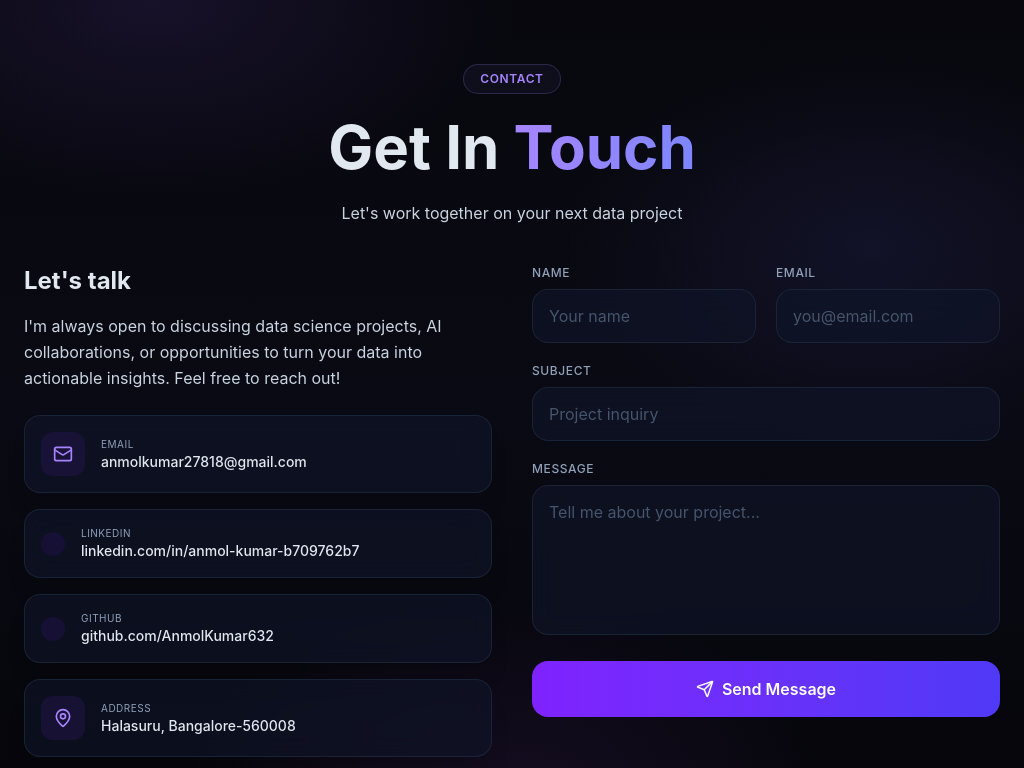
Test: Contact › Form Submission - Valid Data › shows success message after successful submission
This screenshot has width=1024, height=768.
In the field with placeholder "Your name": (644, 316) x1=532 y1=289 x2=756 y2=343, type "Anmol Kumar"
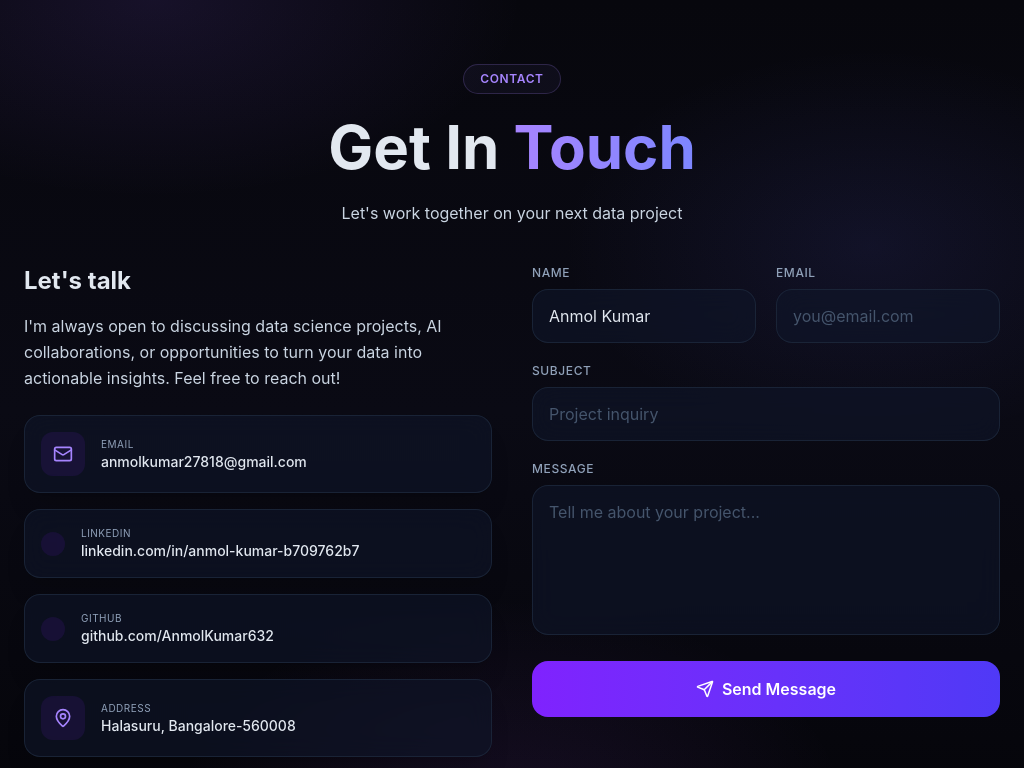
In the field with placeholder "you@email.com": (888, 316) x1=776 y1=289 x2=1000 y2=343, type "test@example.com"
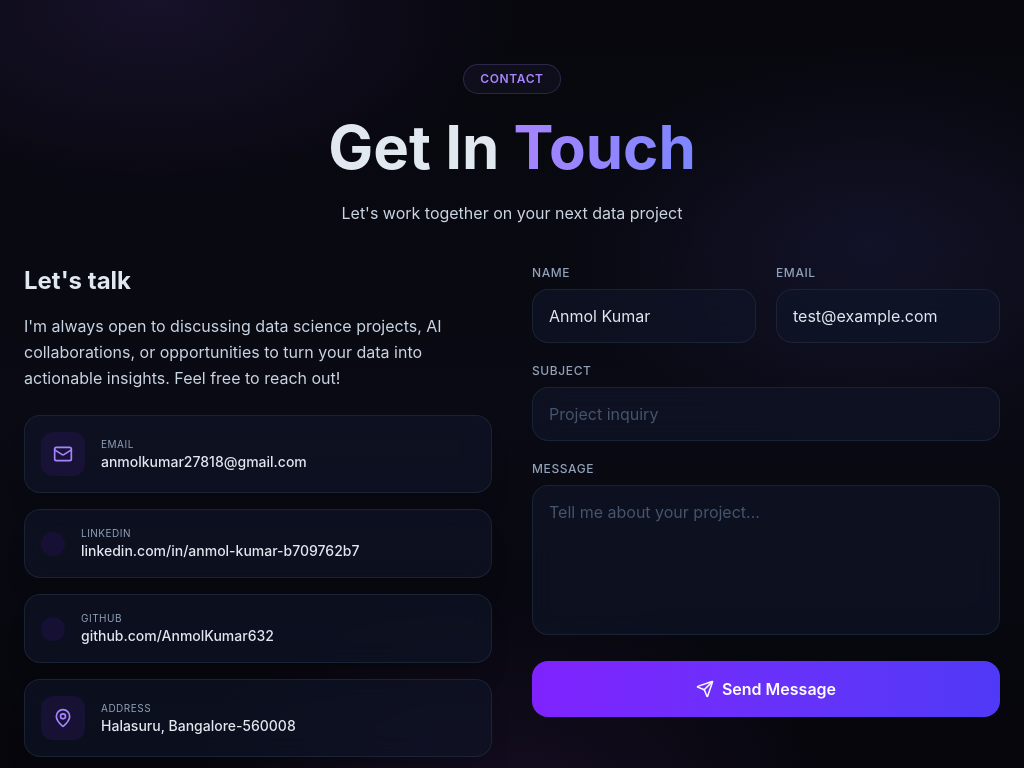
In the field with placeholder "Project inquiry": (766, 414) x1=532 y1=387 x2=1000 y2=441, type "Data Science Project"
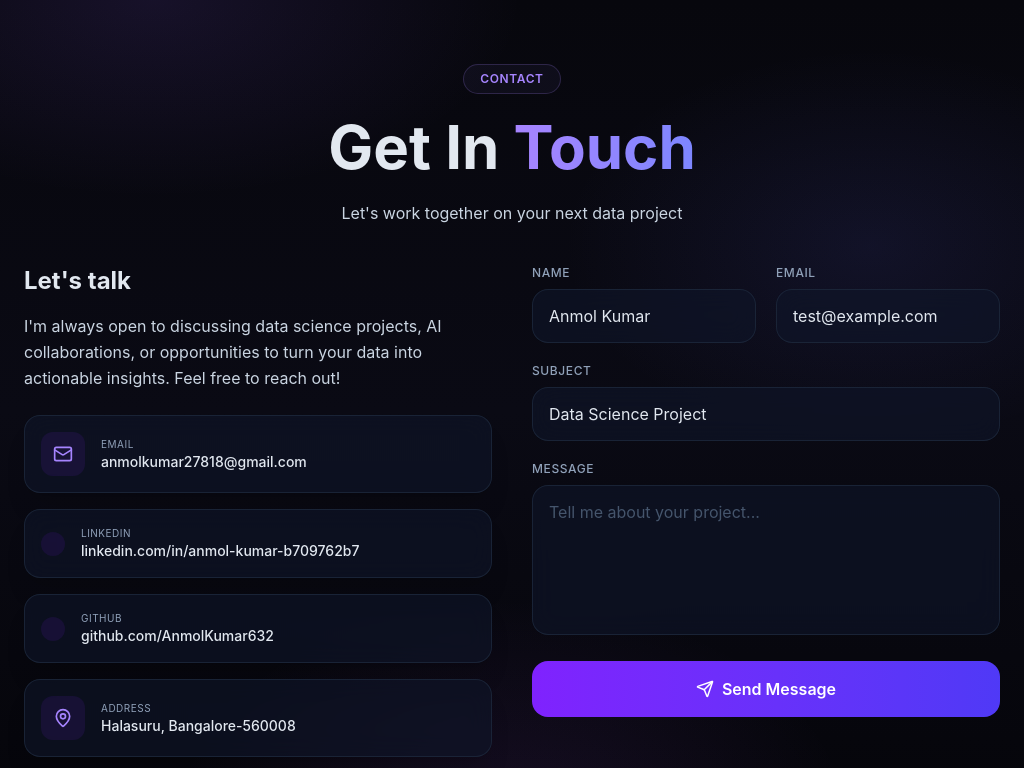
In the text box with placeholder "Tell me about your project...": (766, 560) x1=532 y1=485 x2=1000 y2=635, type "I need help with ML models."
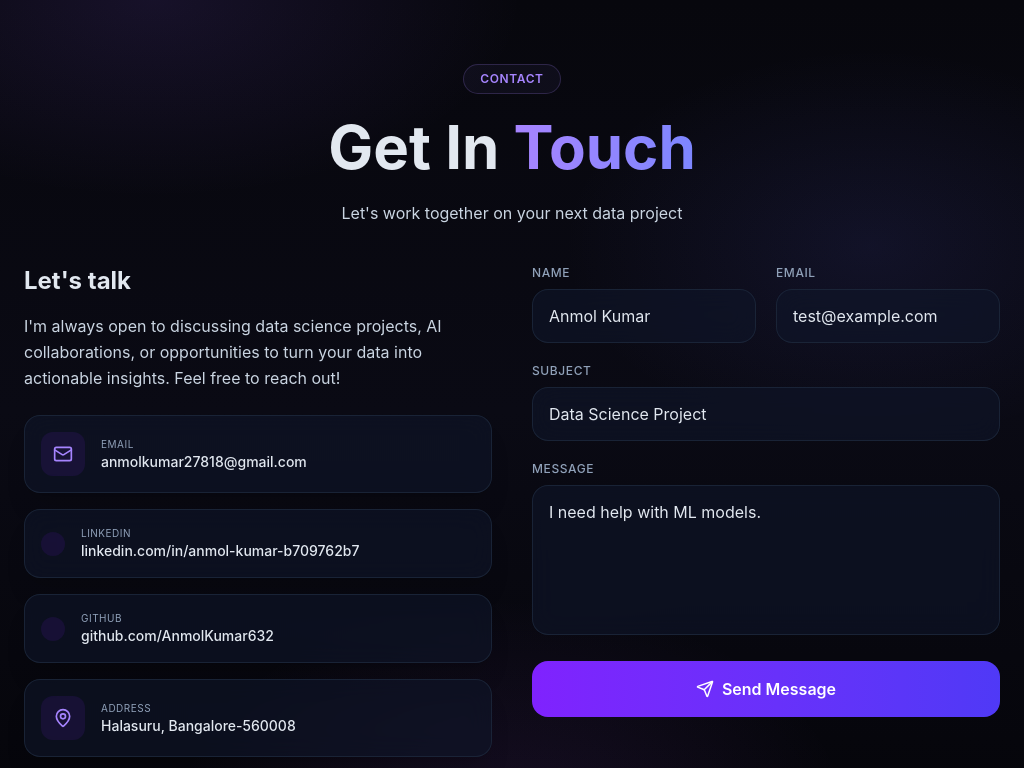
Click the button "Send Message": (766, 689) x1=532 y1=661 x2=1000 y2=717
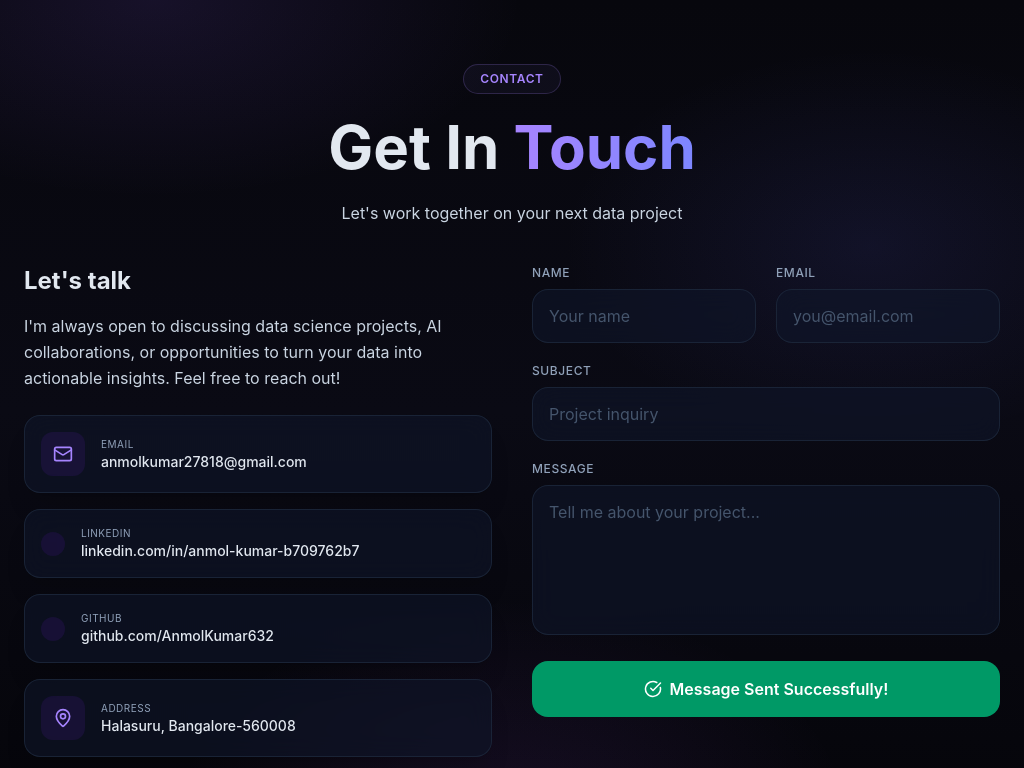
Now the button "Message Sent Successfully!" is shown, box x1=532 y1=661 x2=1000 y2=717
